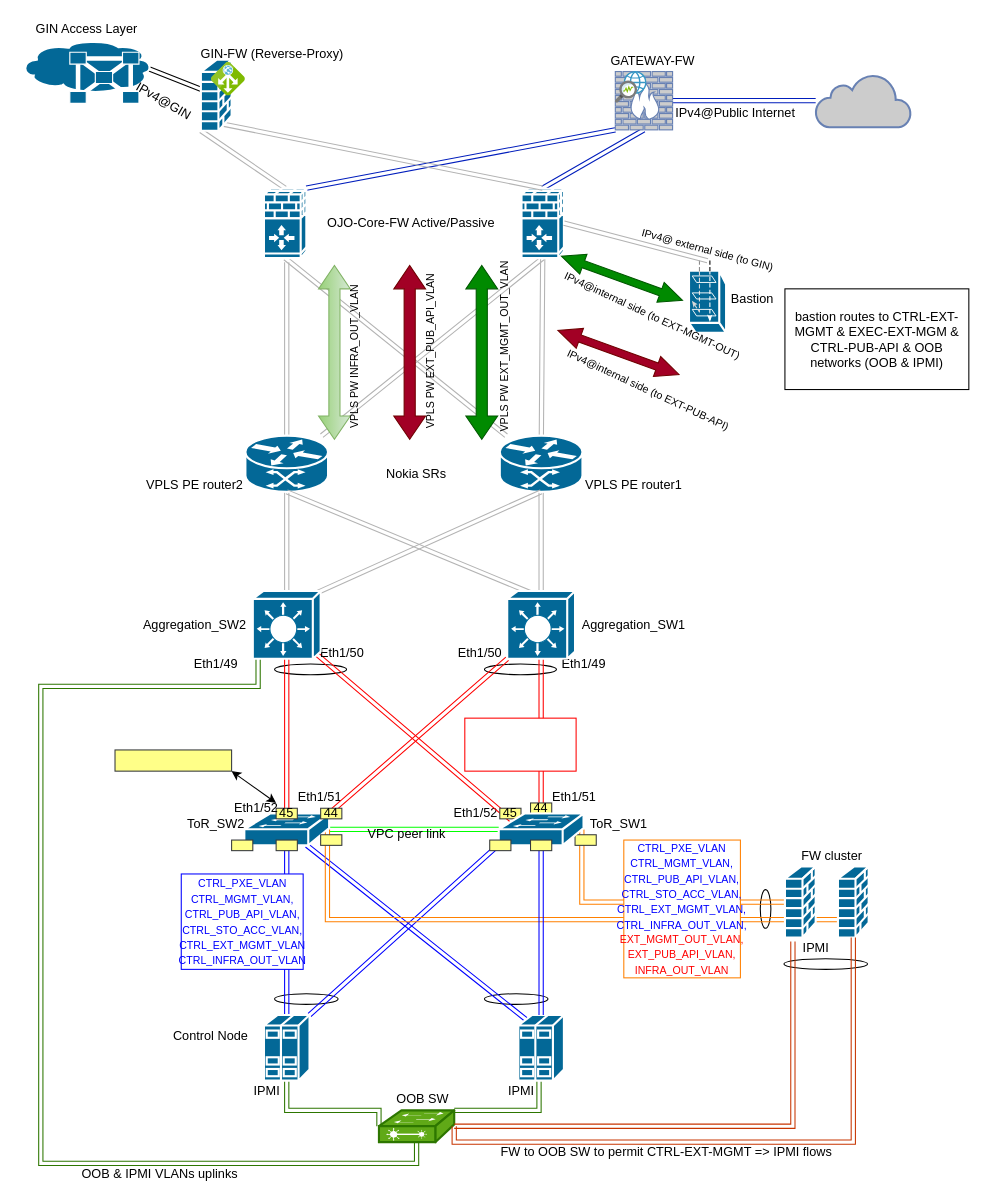
Some shapes in this 987 by 1202 pixel diagram are drawn without their labels. Each missing label, with the centre of its shape:
"EXT_MGMT_OUT_VLAN, EXT_PUB_API_VLAN, INFRA_OUT_VLAN" goes at (520,744).
"Internet" goes at (863,100).
"vPC member ports" goes at (173,760).
